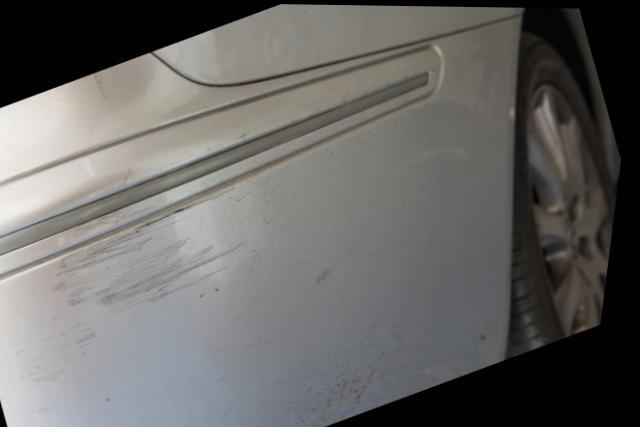scratch: (32, 176, 249, 427)
